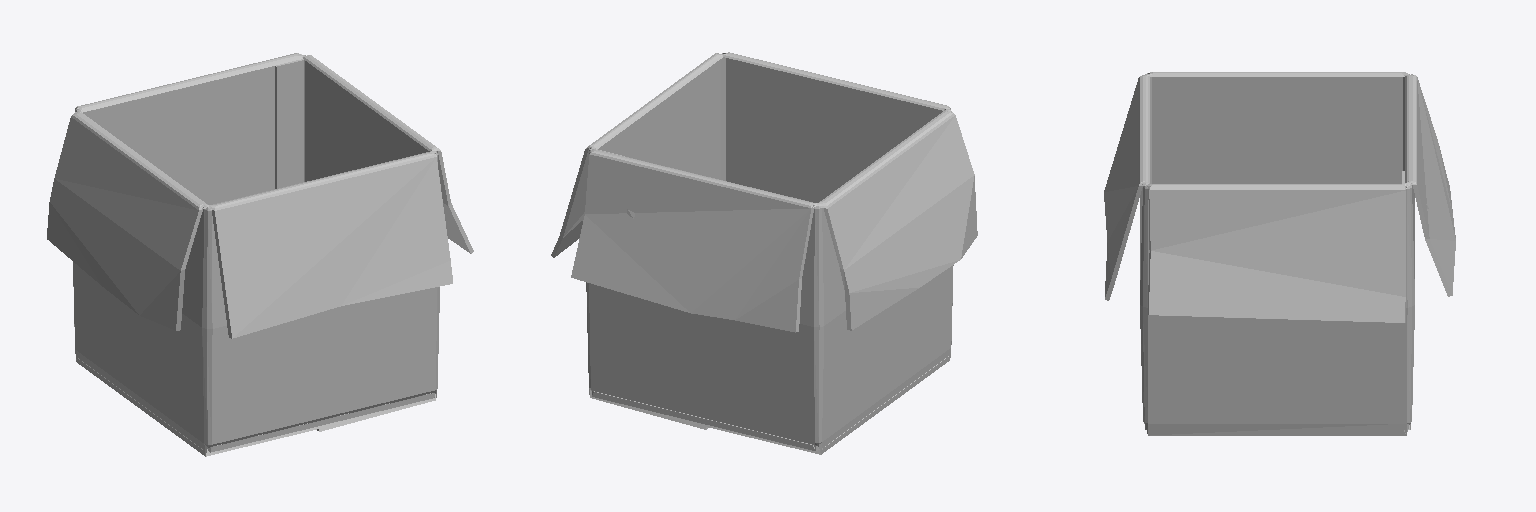
File: Cardboard.obj
3 renders of one model, left to right at view 1: azimuth 30°, elevation 25°; view 2: azimuth 150°, elevation 25°; view 3: azimuth 270°, elevation 25°, orthographic.
Visible parts, largest first — view 1: Cube; view 2: Cube; view 3: Cube.
Part boxes in pixels (left/top/right/bottom): Cube: left=47, top=53, right=473, bottom=456; Cube: left=551, top=52, right=977, bottom=454; Cube: left=1104, top=72, right=1455, bottom=435.
Size of the model in its own units: 2.66 by 2.09 by 2.62.